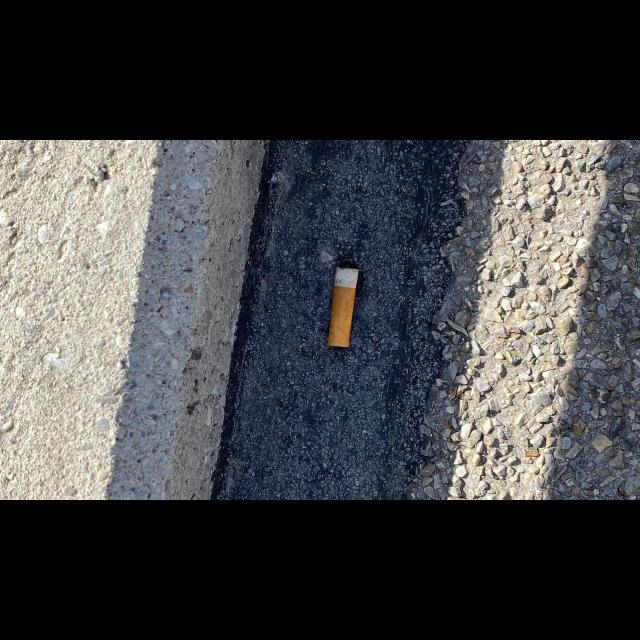cigarette: (326, 261, 360, 348)
